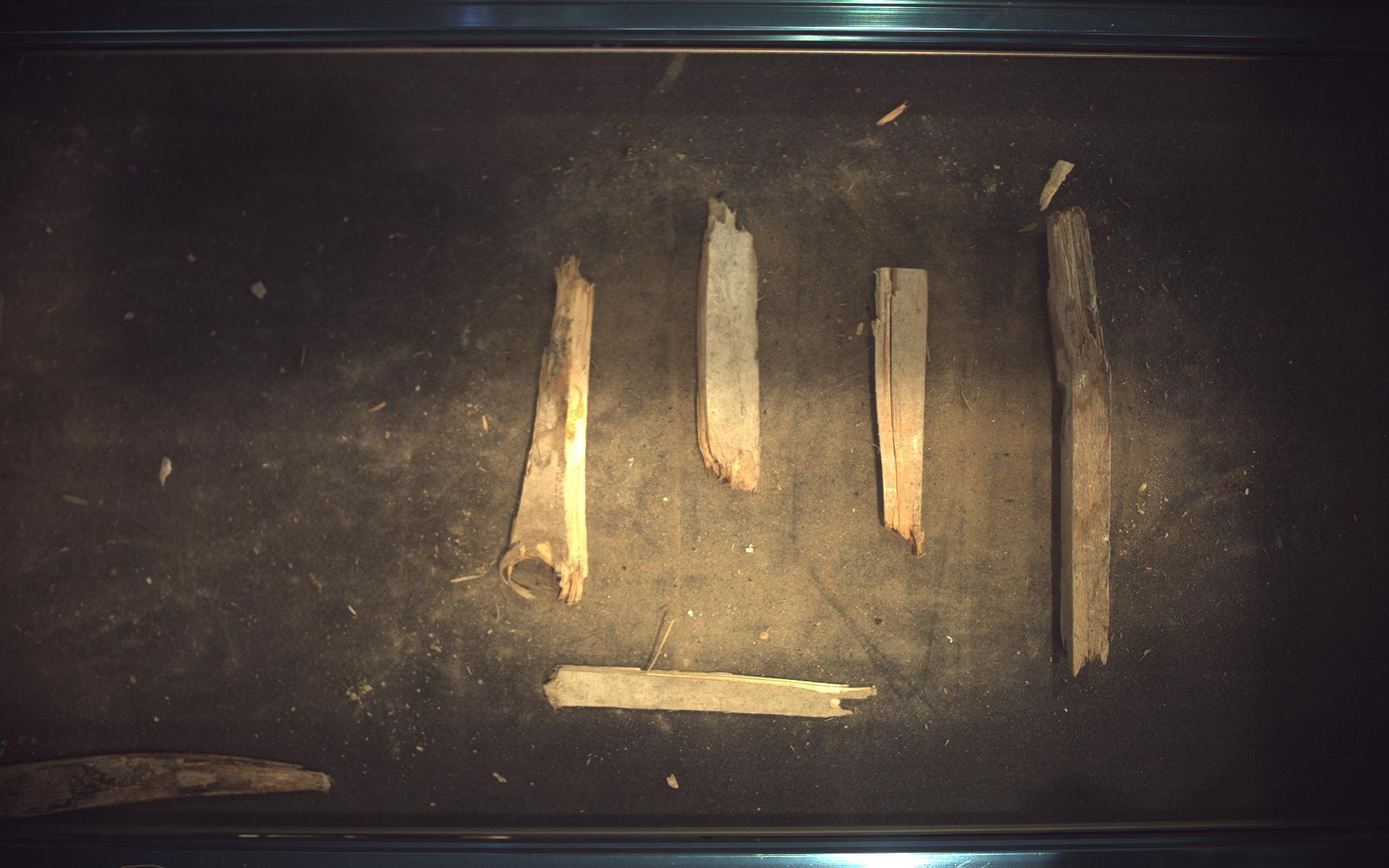wood: (498, 256, 595, 605), (1050, 207, 1113, 676), (1, 756, 331, 820), (699, 197, 762, 491), (545, 666, 878, 719), (874, 267, 929, 556)
